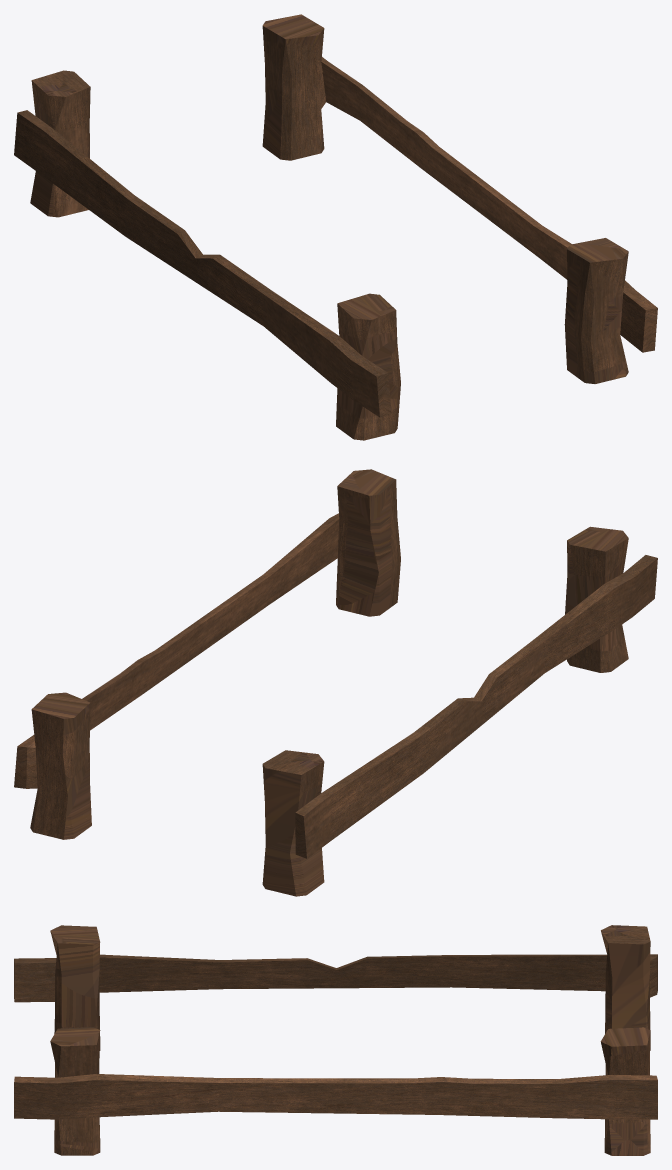
File: PropBridge2.fbx
3 renders of one model, top to bottom at view 1: azimuth 30°, elevation 25°; view 2: azimuth 150°, elevation 25°; view 3: azimuth 270°, elevation 25°, orthographic. The views are drawn at different scales.
Parts seen in each view (by area): view 1: PropBridge2; view 2: PropBridge2; view 3: PropBridge2.
Boxes of the visible parts, x1,y1,x2,y2 form: PropBridge2: [14, 14, 657, 440]; PropBridge2: [14, 469, 657, 896]; PropBridge2: [14, 925, 657, 1155].
Bounding box in the file's own units: 3.17 × 1.23 × 6.58.
1 material, 1 textured.
